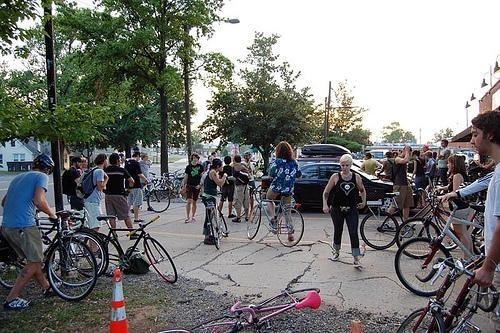bicycle: (2, 208, 99, 303), (396, 198, 484, 297), (398, 253, 488, 329), (96, 214, 179, 284), (362, 174, 438, 248), (194, 290, 324, 328), (246, 184, 305, 248), (396, 194, 454, 248), (64, 210, 109, 277), (199, 188, 231, 249), (142, 172, 171, 212), (155, 173, 188, 202)
car: (260, 163, 394, 211), (295, 144, 363, 167)
